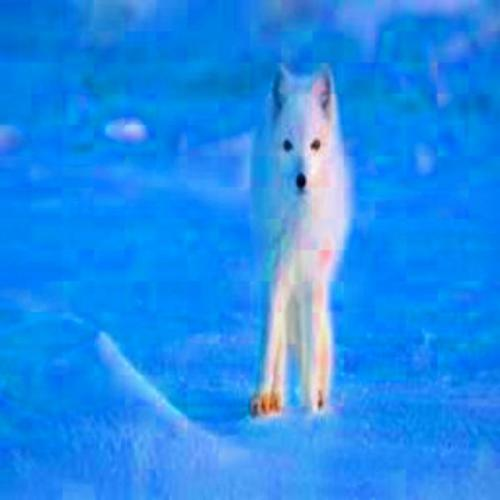arctic_fox-endangered: (254, 72, 344, 410)
